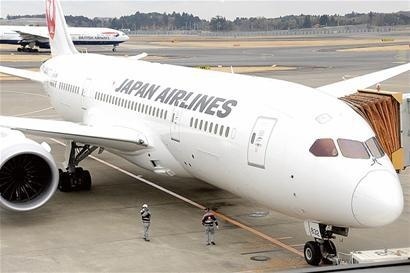airplane: (5, 1, 406, 263), (1, 13, 130, 47)
